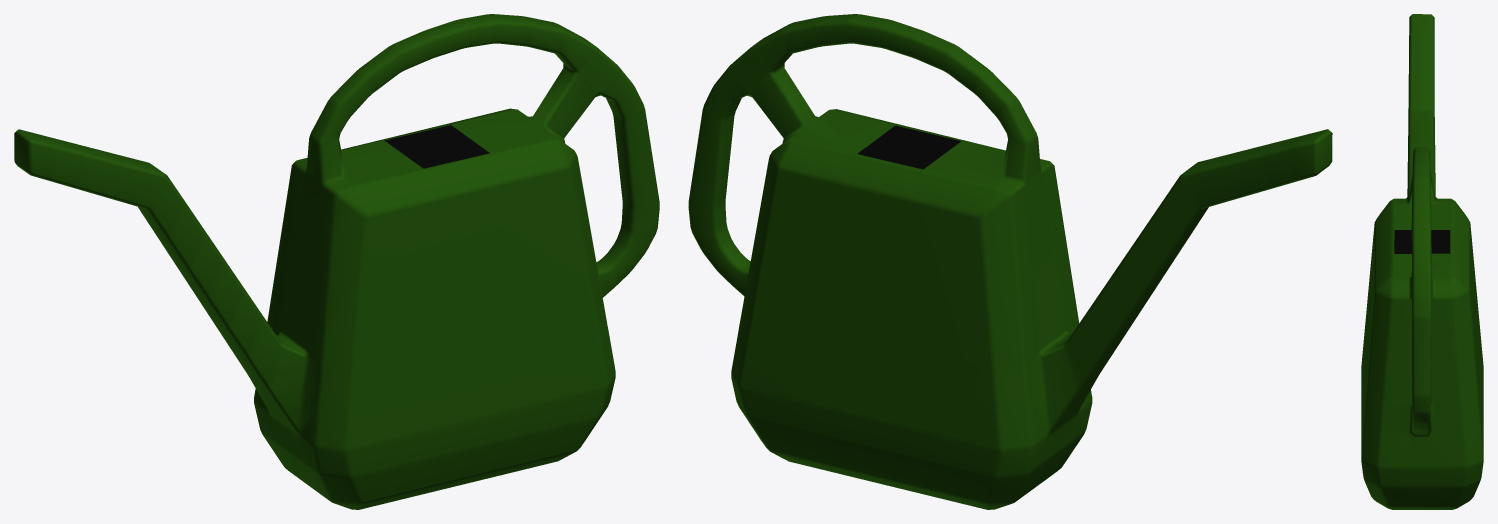
The model's file is Watering_Can 2.fbx.
3 views of the same model, side by side, from view 1: azimuth 30°, elevation 25°; view 2: azimuth 150°, elevation 25°; view 3: azimuth 270°, elevation 25° (orthographic). The views are drawn at different scales.
Visible parts, largest first — view 1: WateringCan; view 2: WateringCan; view 3: WateringCan.
Boxes of the visible parts, x1=… form: WateringCan: x1=14, y1=14, x2=659, y2=509; WateringCan: x1=688, y1=14, x2=1332, y2=509; WateringCan: x1=1361, y1=14, x2=1483, y2=509.
Size of the model in its own units: 0.6509 by 0.4332 by 0.1506.
